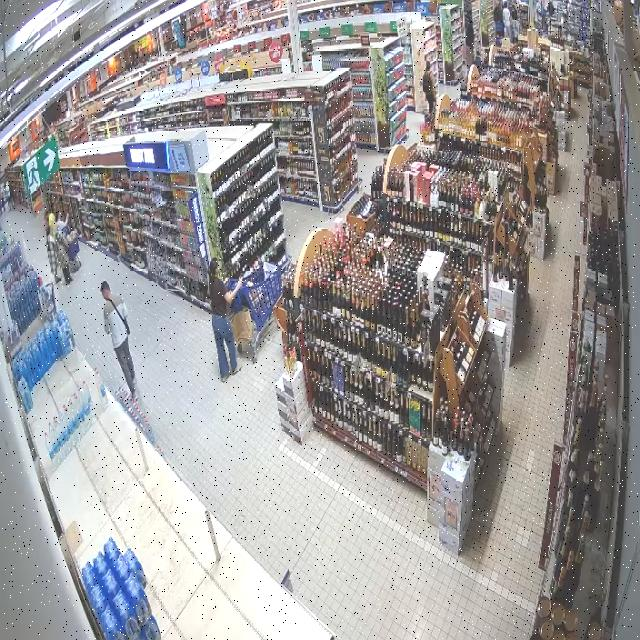bags: (109, 299, 129, 335), (423, 73, 435, 97)
hands: (238, 277, 243, 287), (223, 277, 229, 285)
person: (100, 282, 137, 401), (209, 258, 242, 382), (422, 61, 436, 114)
